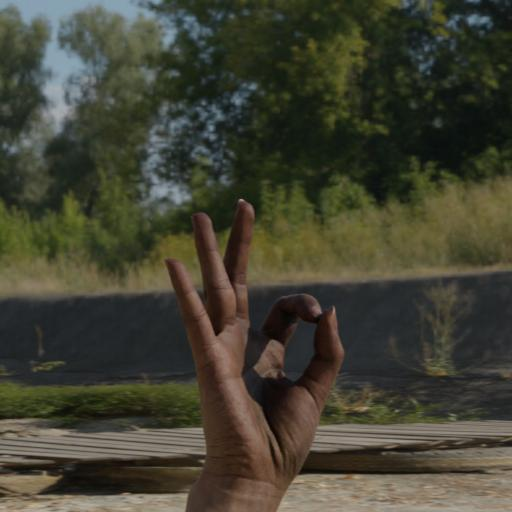F: (148, 190, 355, 512)
